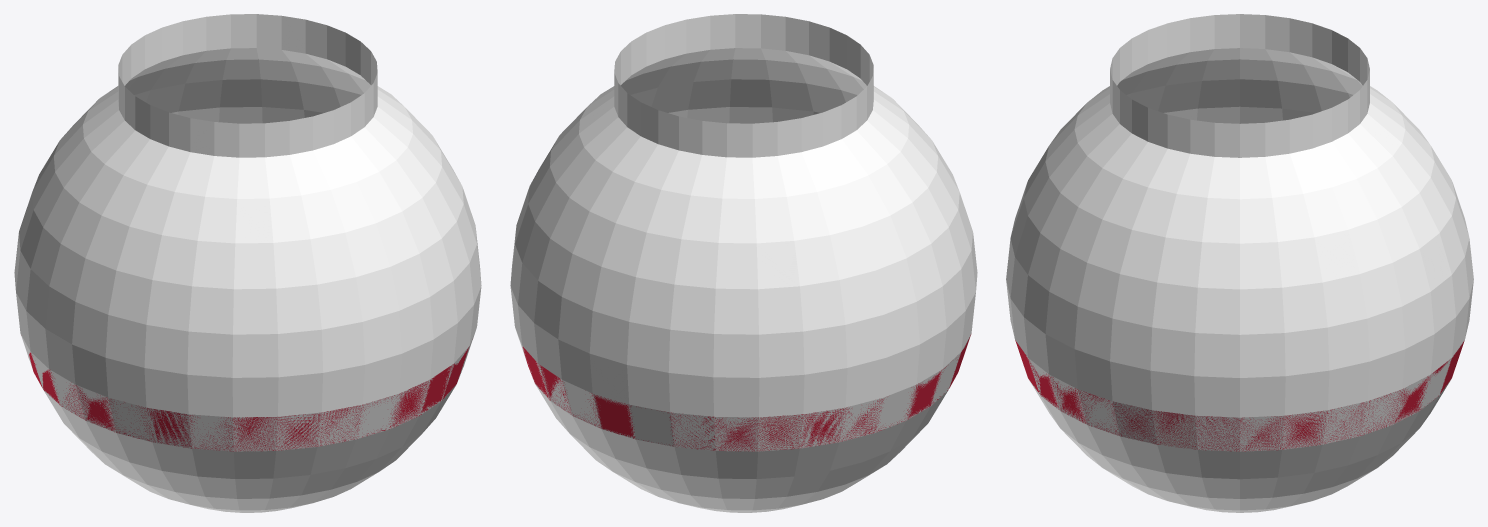
File: Elixir_New_Basic.glb
The picture shows the model from 3 angles, left to right: view 1: azimuth 30°, elevation 25°; view 2: azimuth 150°, elevation 25°; view 3: azimuth 270°, elevation 25°; orthographic projection.
Parts seen in each view (by area): view 1: Sphere, Liquid; view 2: Sphere, Liquid; view 3: Sphere, Liquid.
Boxes of the visible parts, x1,y1,x2,y2 form: Sphere: (14,14,481,512); Liquid: (29,346,469,451); Sphere: (510,14,977,512); Liquid: (522,334,971,451); Sphere: (1006,14,1473,512); Liquid: (1015,340,1464,451).
Bounding box in the file's own units: 2 × 1.99 × 2.
